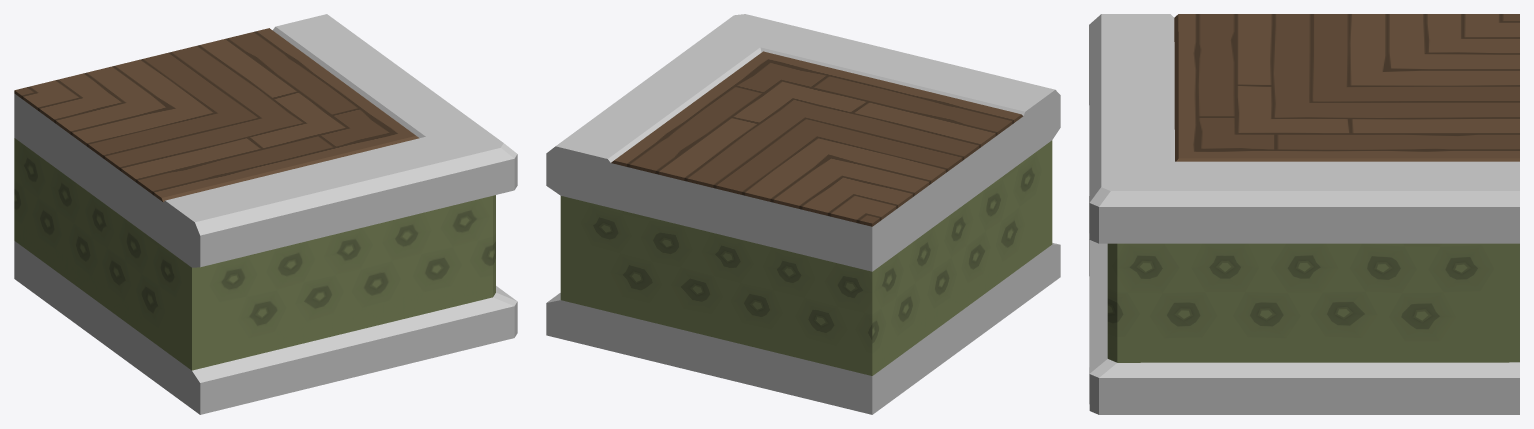
File: SM_Prop_Platform_01_Corner_L_04.fbx
The picture shows the model from 3 angles, left to right: view 1: azimuth 30°, elevation 25°; view 2: azimuth 150°, elevation 25°; view 3: azimuth 270°, elevation 25°; orthographic projection. The views are drawn at different scales.
Visible parts, largest first — view 1: SM_Prop_Platform_01_Corner_L_04; view 2: SM_Prop_Platform_01_Corner_L_04; view 3: SM_Prop_Platform_01_Corner_L_04.
Part boxes in pixels (left/top/right/bottom): SM_Prop_Platform_01_Corner_L_04: left=14, top=14, right=517, bottom=414; SM_Prop_Platform_01_Corner_L_04: left=546, top=14, right=1060, bottom=414; SM_Prop_Platform_01_Corner_L_04: left=1089, top=14, right=1519, bottom=414.
Size of the model in its own units: 178 by 100 by 178.
